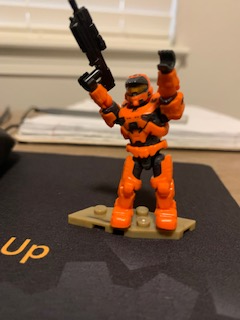rifle: (65, 1, 119, 93)
spartan: (78, 49, 186, 232)
up: (80, 48, 186, 141)
